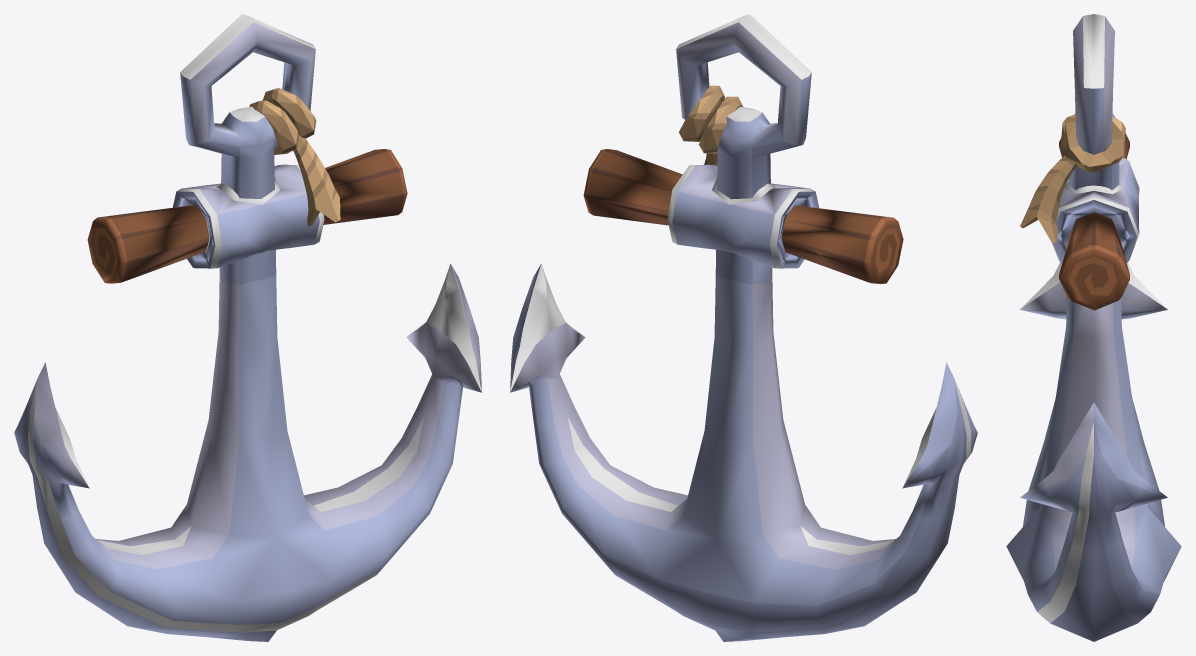
Rendered from Prop_Anchor.fbx.
3 views of the same model, side by side, from view 1: azimuth 30°, elevation 25°; view 2: azimuth 150°, elevation 25°; view 3: azimuth 270°, elevation 25° (orthographic).
Visible parts, largest first — view 1: Model_Anchor, Model_Anchor_Detail, Model_Anchor_Shine; view 2: Model_Anchor, Model_Anchor_Detail, Model_Anchor_Shine; view 3: Model_Anchor, Model_Anchor_Detail, Model_Anchor_Shine.
Boxes of the visible parts, x1,y1,x2,y2 form: Model_Anchor: [14, 22, 481, 641]; Model_Anchor_Detail: [87, 88, 407, 283]; Model_Anchor_Shine: [27, 14, 481, 632]; Model_Anchor: [510, 22, 977, 641]; Model_Anchor_Detail: [583, 85, 903, 284]; Model_Anchor_Shine: [510, 14, 970, 554]; Model_Anchor: [1006, 16, 1181, 641]; Model_Anchor_Detail: [1020, 114, 1129, 310]; Model_Anchor_Shine: [1020, 14, 1167, 623].
Size of the model in its own units: 866 by 1167 by 302.
